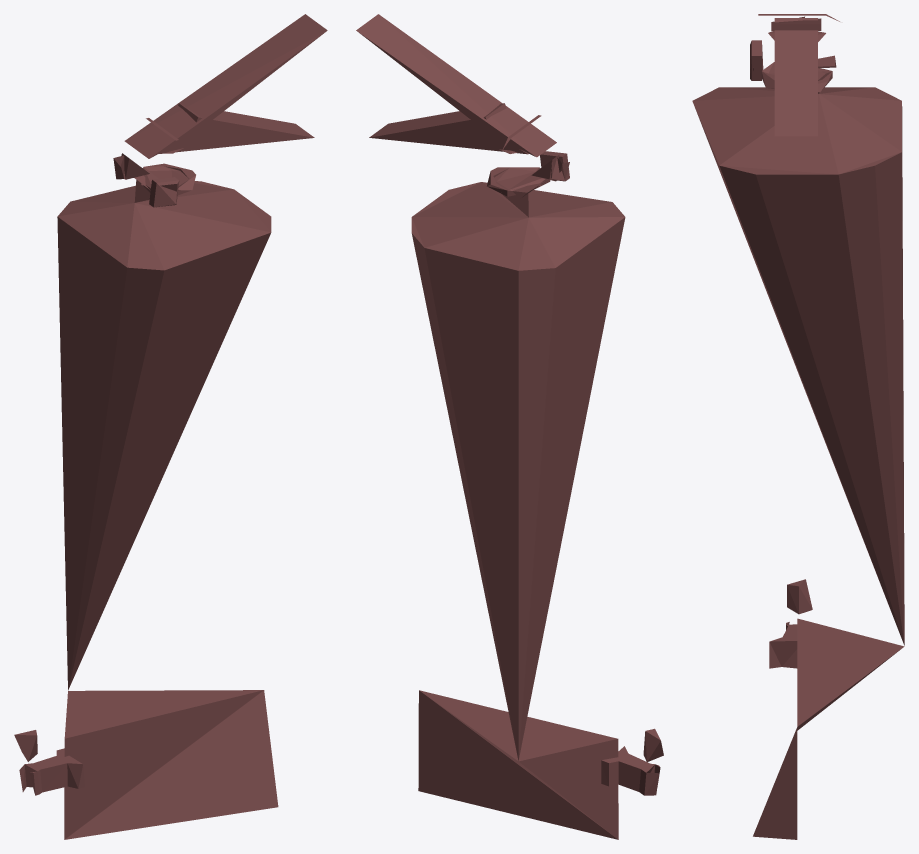
The model's file is fire-ext.lod1.glb.
3 renders of one model, left to right at view 1: azimuth 30°, elevation 25°; view 2: azimuth 150°, elevation 25°; view 3: azimuth 270°, elevation 25°, orthographic. The views are drawn at different scales.
Visible parts, largest first — view 1: defaultMaterial; view 2: defaultMaterial; view 3: defaultMaterial.
Boxes of the visible parts, x1,y1,x2,y2 form: defaultMaterial: (14, 14, 327, 839); defaultMaterial: (356, 14, 663, 839); defaultMaterial: (692, 14, 904, 839).
Size of the model in its own units: 0.247 by 0.5988 by 0.1366.
